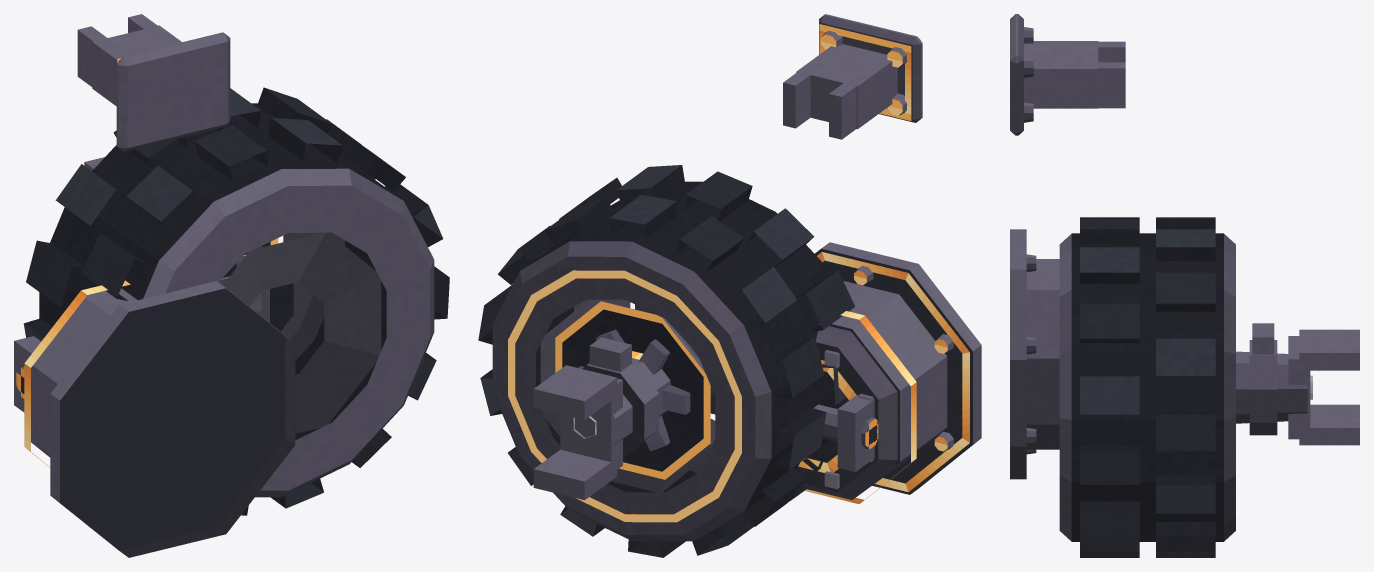
File: marlit_wlight.glb
3 renders of one model, left to right at view 1: azimuth 30°, elevation 25°; view 2: azimuth 150°, elevation 25°; view 3: azimuth 270°, elevation 25°, orthographic. The views are drawn at different scales.
Visible parts, largest first — view 1: marlit_wlight_tyre, marlit_wlight_body, marlit_wlight_arm; view 2: marlit_wlight_tyre, marlit_wlight_body, marlit_wlight_arm; view 3: marlit_wlight_tyre, marlit_wlight_body, marlit_wlight_arm.
Boxes of the visible parts, x1=… form: marlit_wlight_tyre: x1=23, y1=87, x2=449, y2=515; marlit_wlight_body: x1=14, y1=14, x2=295, y2=557; marlit_wlight_arm: x1=84, y1=157, x2=293, y2=331; marlit_wlight_tyre: x1=478, y1=165, x2=865, y2=557; marlit_wlight_body: x1=783, y1=14, x2=981, y2=503; marlit_wlight_arm: x1=533, y1=312, x2=714, y2=500; marlit_wlight_tyre: x1=1059, y1=217, x2=1235, y2=557; marlit_wlight_body: x1=1010, y1=14, x2=1125, y2=479; marlit_wlight_arm: x1=1236, y1=323, x2=1359, y2=445.
Bounding box in the file's own units: 1.54 × 1.8 × 1.27.
Materials: 1 (1 with a texture image).
